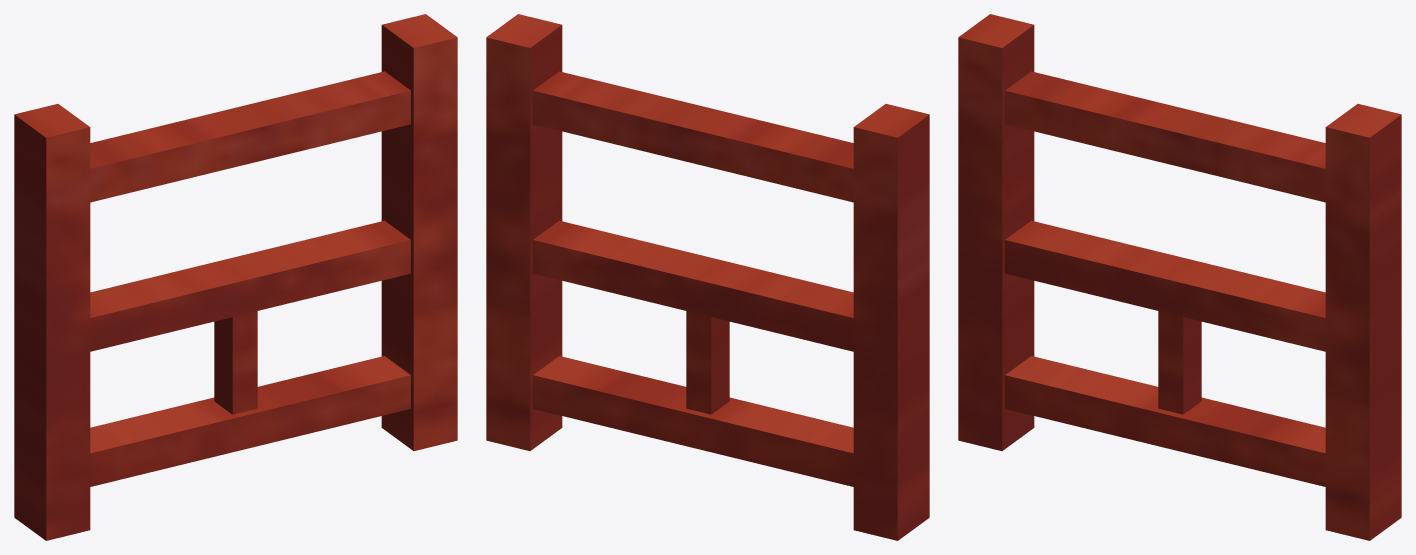
The model's file is fenceC.fbx.
The picture shows the model from 3 angles, left to right: view 1: azimuth 30°, elevation 25°; view 2: azimuth 150°, elevation 25°; view 3: azimuth 330°, elevation 25°; orthographic projection.
Parts seen in each view (by area): view 1: Fence; view 2: Fence; view 3: Fence.
Boxes of the visible parts, x1,y1,x2,y2 form: Fence: (14, 14, 457, 540); Fence: (486, 14, 929, 540); Fence: (958, 14, 1401, 540).
Size of the model in its own units: 42.47 by 39.75 by 5.71.
Materials: 1 (1 with a texture image).
